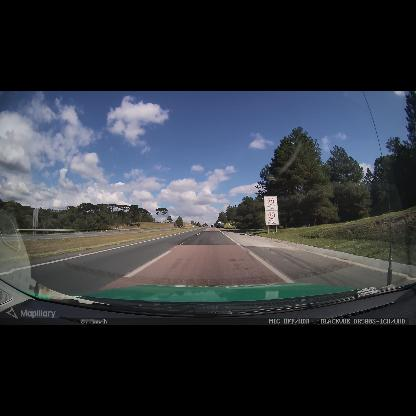R-19: (263, 196, 279, 226)
